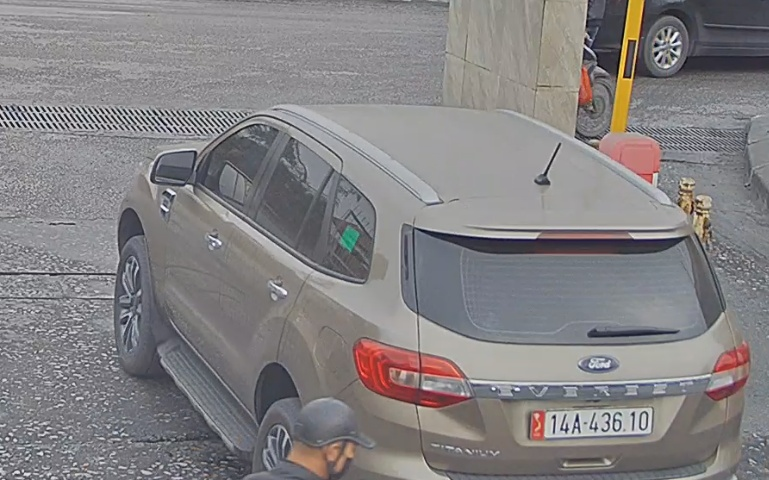vehicle plate: (524, 403, 660, 440)
